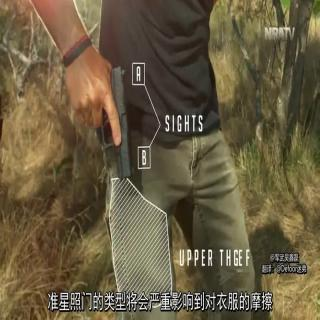gun: (87, 56, 135, 186)
